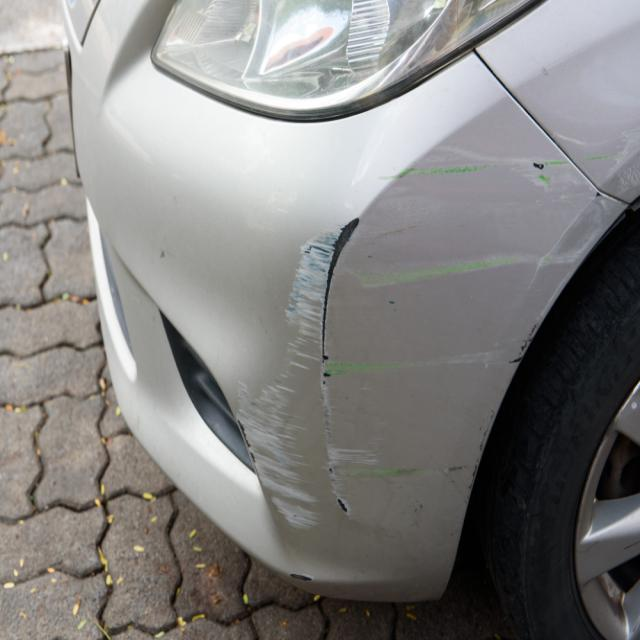scratch: (232, 138, 625, 533), (561, 119, 640, 205)
